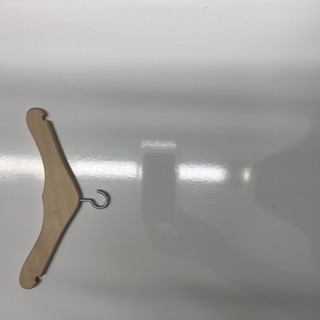rack: (19, 108, 110, 290)
